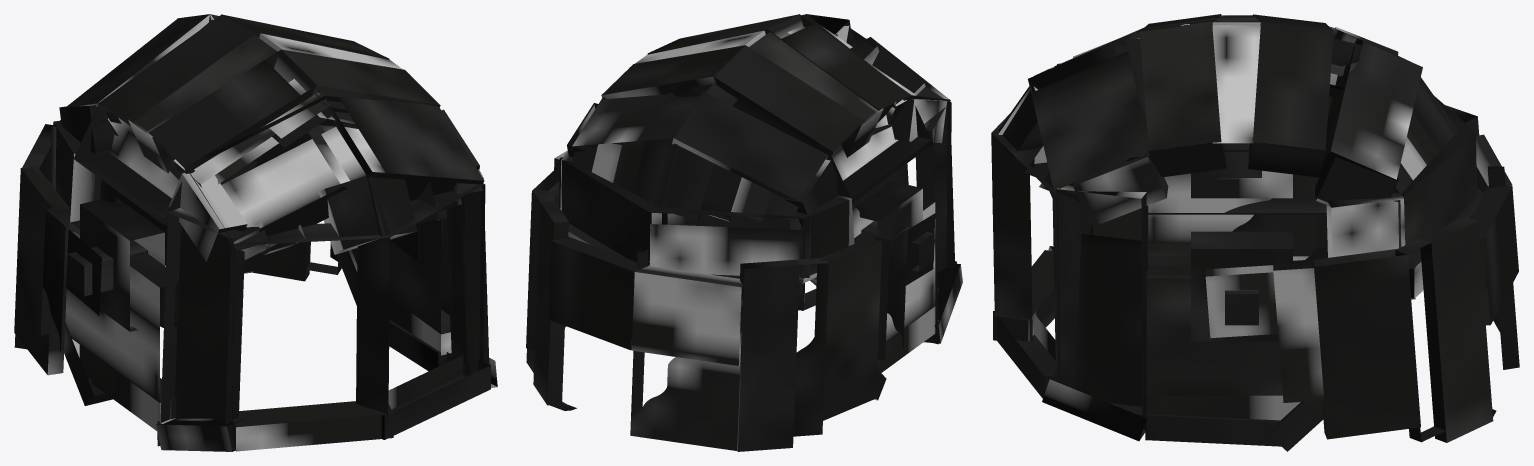
Rendered from killa_h.obj.
3 views of the same model, side by side, from view 1: azimuth 30°, elevation 25°; view 2: azimuth 150°, elevation 25°; view 3: azimuth 270°, elevation 25° (orthographic). The views are drawn at different scales.
Parts seen in each view (by area): view 1: killa_h; view 2: killa_h; view 3: killa_h.
Part boxes in pixels (bbox=[...]): killa_h: bbox=[14, 14, 497, 451]; killa_h: bbox=[526, 14, 962, 451]; killa_h: bbox=[991, 14, 1519, 451].
Size of the model in its own units: 0.8222 by 0.7112 by 0.9698.
